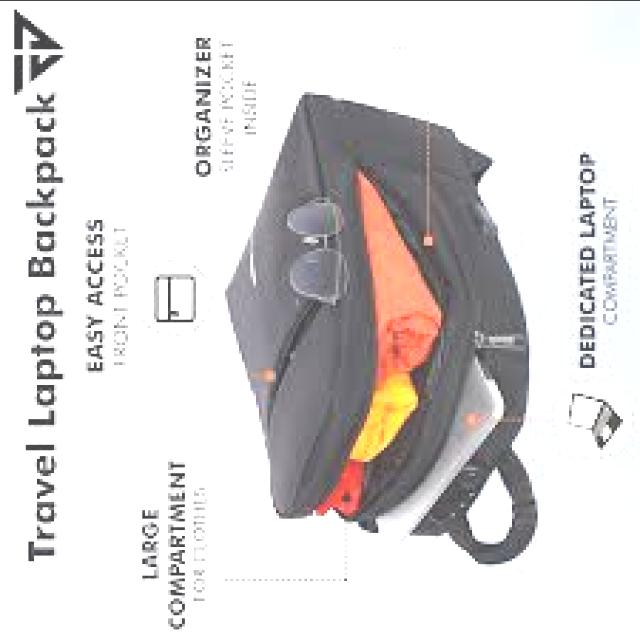backpack: (223, 92, 536, 564)
